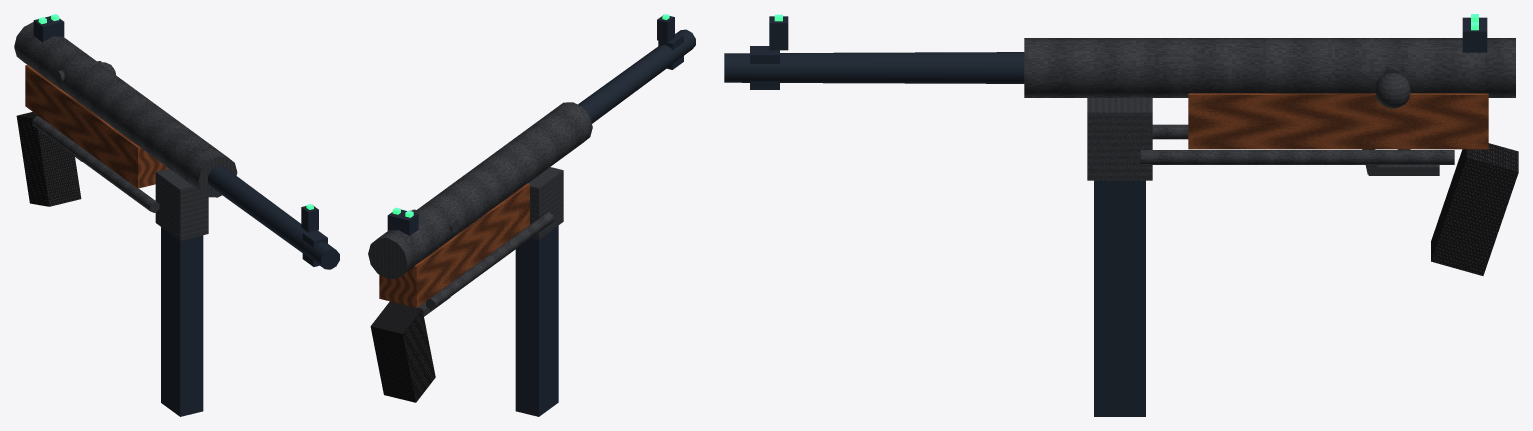
3 renders of one model, left to right at view 1: azimuth 30°, elevation 25°; view 2: azimuth 150°, elevation 25°; view 3: azimuth 270°, elevation 25°, orthographic. The views are drawn at different scales.
Visible parts, largest first — view 1: weapon_mp40, MagazineNode; view 2: weapon_mp40, MagazineNode; view 3: weapon_mp40, MagazineNode, BoltHandleNode.
Boxes of the visible parts, x1,y1,x2,y2 form: weapon_mp40: (14,14,339,269); MagazineNode: (155,168,208,416); weapon_mp40: (368,14,695,402); MagazineNode: (515,167,563,416); weapon_mp40: (724,14,1518,275); MagazineNode: (1087,98,1152,416); BoltHandleNode: (1375,66,1410,108).
Bounding box in the file's own units: 0.0667 × 0.318 × 0.5821.
5 materials, 3 textured.
